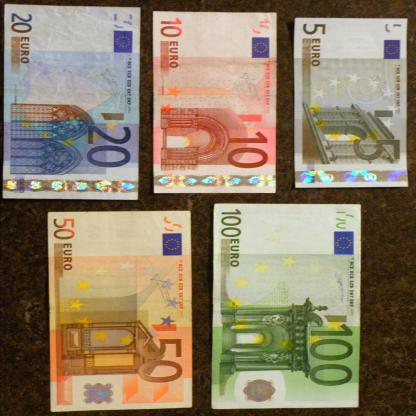euro_banknote: (184, 234, 391, 382), (22, 241, 222, 385), (125, 41, 306, 166), (267, 47, 416, 161)
